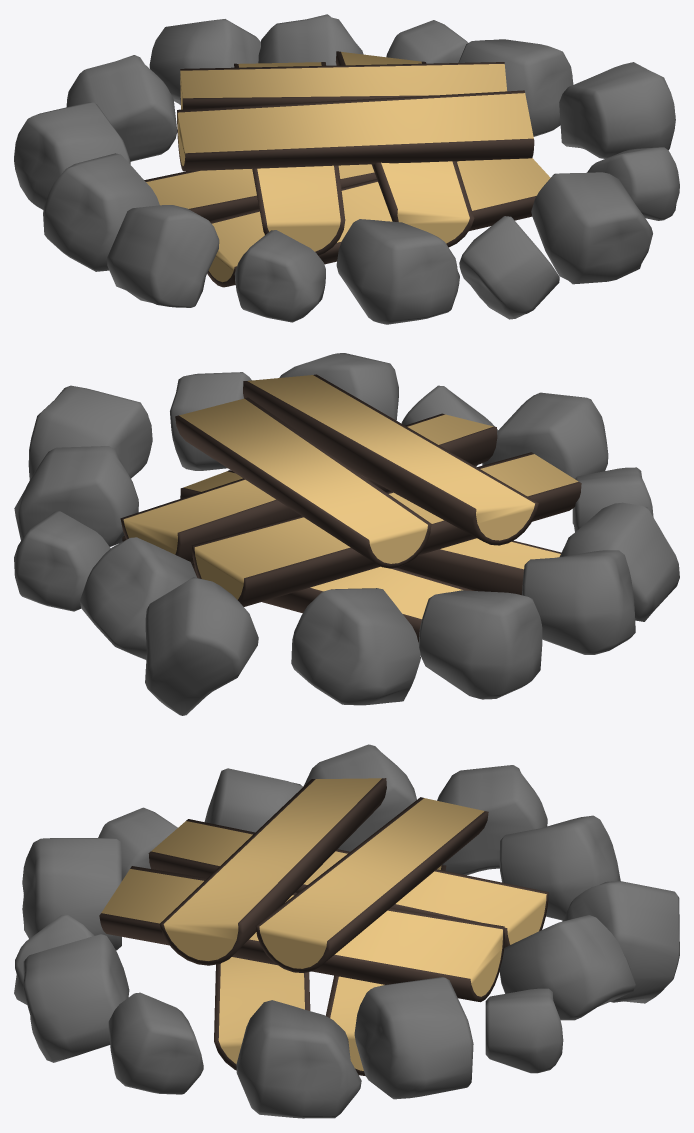
The model's file is Campfire.glb.
3 views of the same model, one above another, from view 1: azimuth 30°, elevation 25°; view 2: azimuth 150°, elevation 25°; view 3: azimuth 270°, elevation 25° (orthographic). The views are drawn at different scales.
Parts seen in each view (by area): view 1: Campfire; view 2: Campfire; view 3: Campfire.
Boxes of the visible parts, x1=… form: Campfire: x1=14, y1=14, x2=679, y2=324; Campfire: x1=14, y1=353, x2=679, y2=715; Campfire: x1=14, y1=744, x2=679, y2=1118.
Size of the model in its own units: 1.18 by 0.2711 by 1.1.
